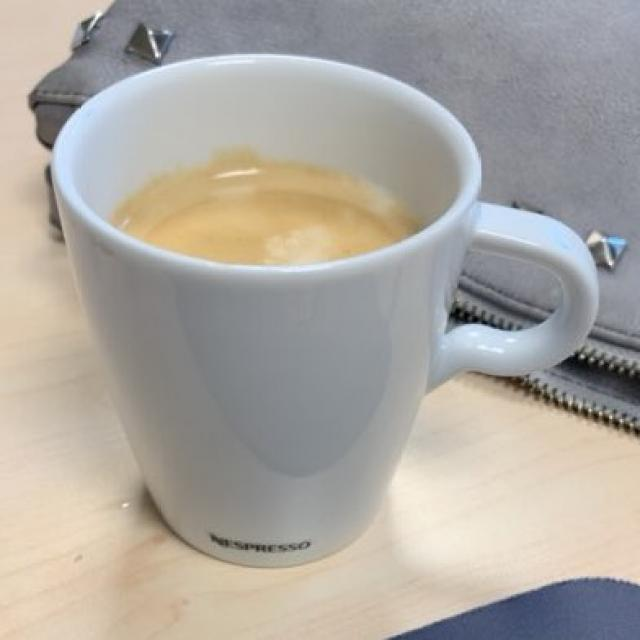coffee-decaffeinated: (115, 155, 414, 261)
